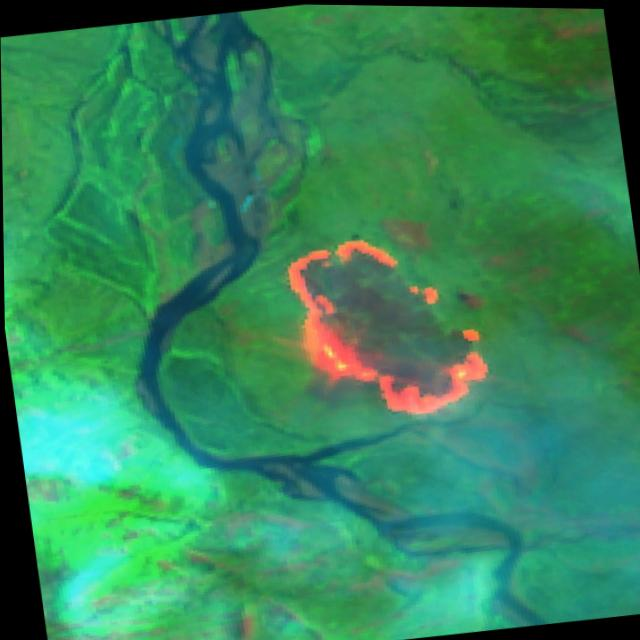fire: (271, 219, 501, 435)
